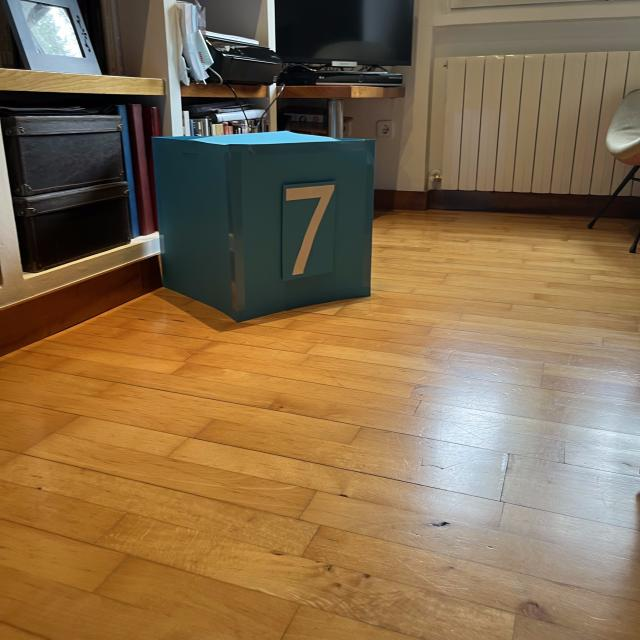box: (148, 127, 378, 323)
